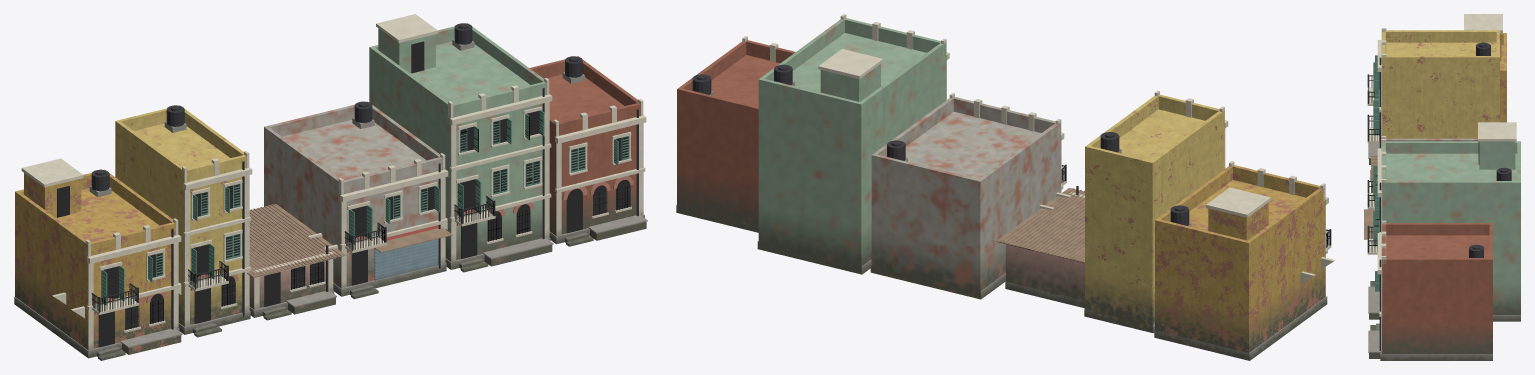
Rendered from kolkata-houses.glb.
The picture shows the model from 3 angles, left to right: view 1: azimuth 30°, elevation 25°; view 2: azimuth 150°, elevation 25°; view 3: azimuth 270°, elevation 25°; orthographic projection. The views are drawn at different scales.
Parts seen in each view (by area): view 1: House 5 - mint three-storey, House 1 - ochre two-storey, House 4 - grey corner shop, House 2 - narrow yellow three-storey, House 6 - red oxide with rowak, House 3 - single-storey tin roof; view 2: House 5 - mint three-storey, House 4 - grey corner shop, House 1 - ochre two-storey, House 2 - narrow yellow three-storey, House 6 - red oxide with rowak, House 3 - single-storey tin roof; view 3: House 6 - red oxide with rowak, House 5 - mint three-storey, House 2 - narrow yellow three-storey, House 1 - ochre two-storey, House 4 - grey corner shop, House 3 - single-storey tin roof.
Part boxes in pixels (box(x1,y1,x2,y2)): House 5 - mint three-storey: box(369, 14, 553, 272); House 1 - ochre two-storey: box(14, 158, 182, 360); House 4 - grey corner shop: box(264, 101, 452, 299); House 2 - narrow yellow three-storey: box(115, 105, 252, 337); House 6 - red oxide with rowak: box(529, 56, 647, 246); House 3 - single-storey tin roof: box(247, 204, 345, 320); House 5 - mint three-storey: box(757, 14, 949, 274); House 4 - grey corner shop: box(870, 93, 1070, 299); House 1 - ochre two-storey: box(1154, 161, 1335, 360); House 2 - narrow yellow three-storey: box(1084, 90, 1228, 333); House 6 - red oxide with rowak: box(676, 36, 795, 232); House 3 - single-storey tin roof: box(996, 186, 1084, 308); House 6 - red oxide with rowak: box(1368, 220, 1492, 360); House 5 - mint three-storey: box(1367, 122, 1520, 321); House 2 - narrow yellow three-storey: box(1367, 28, 1499, 182); House 1 - ochre two-storey: box(1367, 14, 1506, 164); House 4 - grey corner shop: box(1364, 136, 1477, 239); House 3 - single-storey tin roof: box(1371, 155, 1377, 192).
Bounding box in the file's own units: 40.45 × 12.7 × 11.3.
61 materials, 61 textured.
